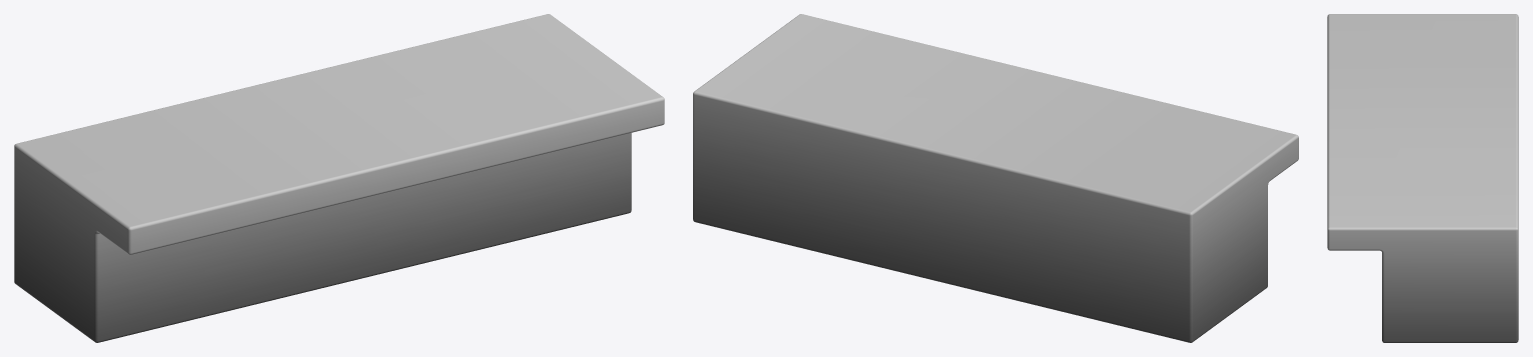
The model's file is HH_Counter_4Unit.fbx.
3 views of the same model, side by side, from view 1: azimuth 30°, elevation 25°; view 2: azimuth 150°, elevation 25°; view 3: azimuth 270°, elevation 25° (orthographic). The views are drawn at different scales.
Visible parts, largest first — view 1: Counter_4Unit; view 2: Counter_4Unit; view 3: Counter_4Unit.
Part boxes in pixels (box(x1,y1,x2,y2)): Counter_4Unit: box(14, 14, 664, 342); Counter_4Unit: box(693, 14, 1298, 342); Counter_4Unit: box(1327, 14, 1518, 342).
Bounding box in the file's own units: 400 × 100 × 150.
1 material, 1 textured.
